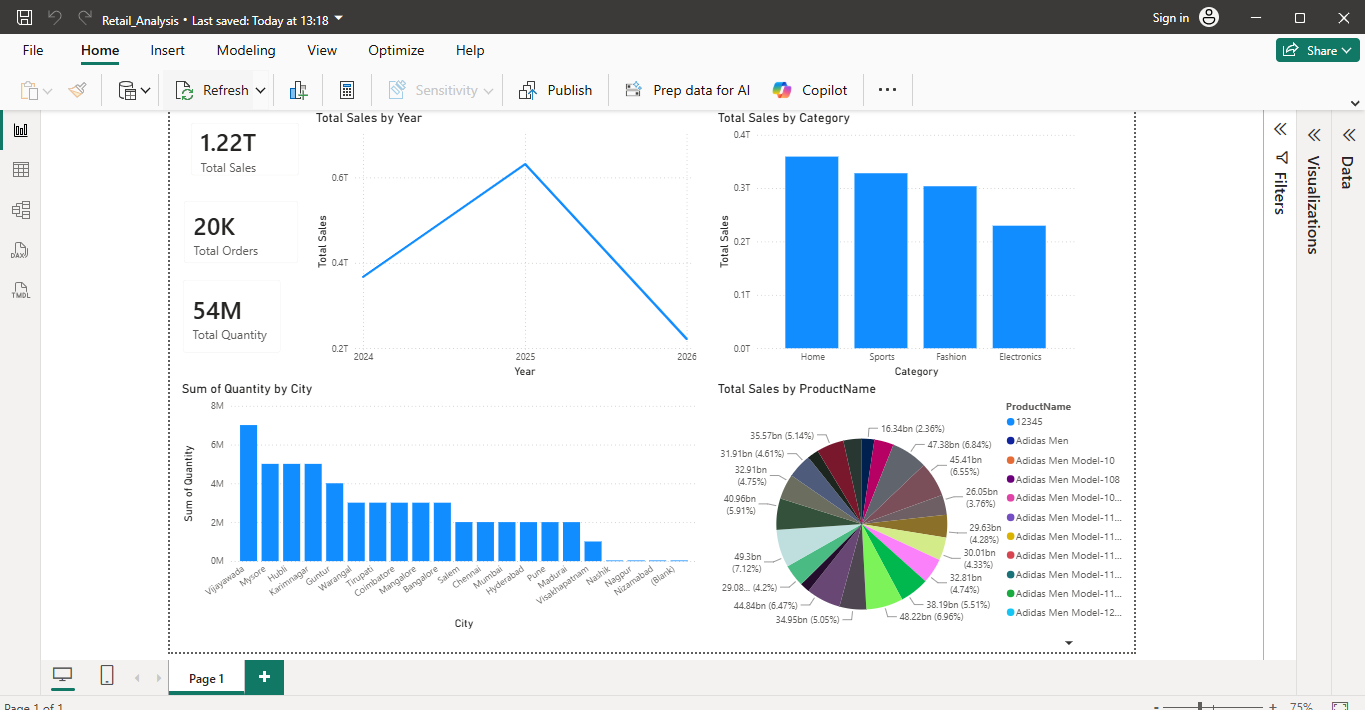

The dashboard page shown, as its layout file describes it:
{"tool":"powerbi","page":{"name":"Page 1","canvas":[1280,720],"ordinal":0},"visuals":[{"type":"cardVisual","fields":{"Data":["fact_sales.Total Sales"]},"box":[10.1,0,178.1,104.1],"z":0},{"type":"cardVisual","fields":{"Data":["fact_sales.Total Orders"]},"box":[1.7,104.1,186.5,117.6],"z":1},{"type":"cardVisual","fields":{"Data":["fact_sales.Total Quantity"]},"box":[0,208.3,164.6,131],"z":2},{"type":"lineChart","fields":{"Category":["fact_sales.OrderDate.Variation.Date Hierarchy.Year","fact_sales.OrderDate.Variation.Date Hierarchy.Quarter","fact_sales.OrderDate.Variation.Date Hierarchy.Month","fact_sales.OrderDate.Variation.Date Hierarchy.Day"],"Y":["fact_sales.Total Sales"]},"box":[188.1,0,515.7,359.5],"z":3},{"type":"clusteredColumnChart","fields":{"Category":["dim_products.Category"],"Y":["fact_sales.Total Sales"]},"box":[722.3,0,485.5,359.5],"z":4},{"type":"clusteredColumnChart","fields":{"Category":["dim_customers.City"],"Y":["Sum(fact_sales.Quantity)"]},"box":[10.1,359.5,693.8,334.3],"z":5},{"type":"pieChart","fields":{"Series":["dim_products.ProductName"],"Y":["fact_sales.Total Sales"]},"box":[722.3,359.5,557.7,361.2],"z":6}]}

Visuals, with their boxes on the page's 1280x720 design canvas (x1, y1, x2, y2). These are canvas units, not pixel positions in the 1365x710 screenshot, which may show the page scaled, cropped or inside an application window:
cardVisual - fact_sales.Total Sales: 10:0:188:104
cardVisual - fact_sales.Total Orders: 2:104:188:222
cardVisual - fact_sales.Total Quantity: 0:208:165:339
lineChart - fact_sales.OrderDate.Variation.Date Hierarchy.Year x fact_sales.OrderDate.Variation.Date Hierarchy.Quarter: 188:0:704:360
clusteredColumnChart - dim_products.Category x fact_sales.Total Sales: 722:0:1208:360
clusteredColumnChart - dim_customers.City x Sum(fact_sales.Quantity): 10:360:704:694
pieChart - dim_products.ProductName x fact_sales.Total Sales: 722:360:1280:721
